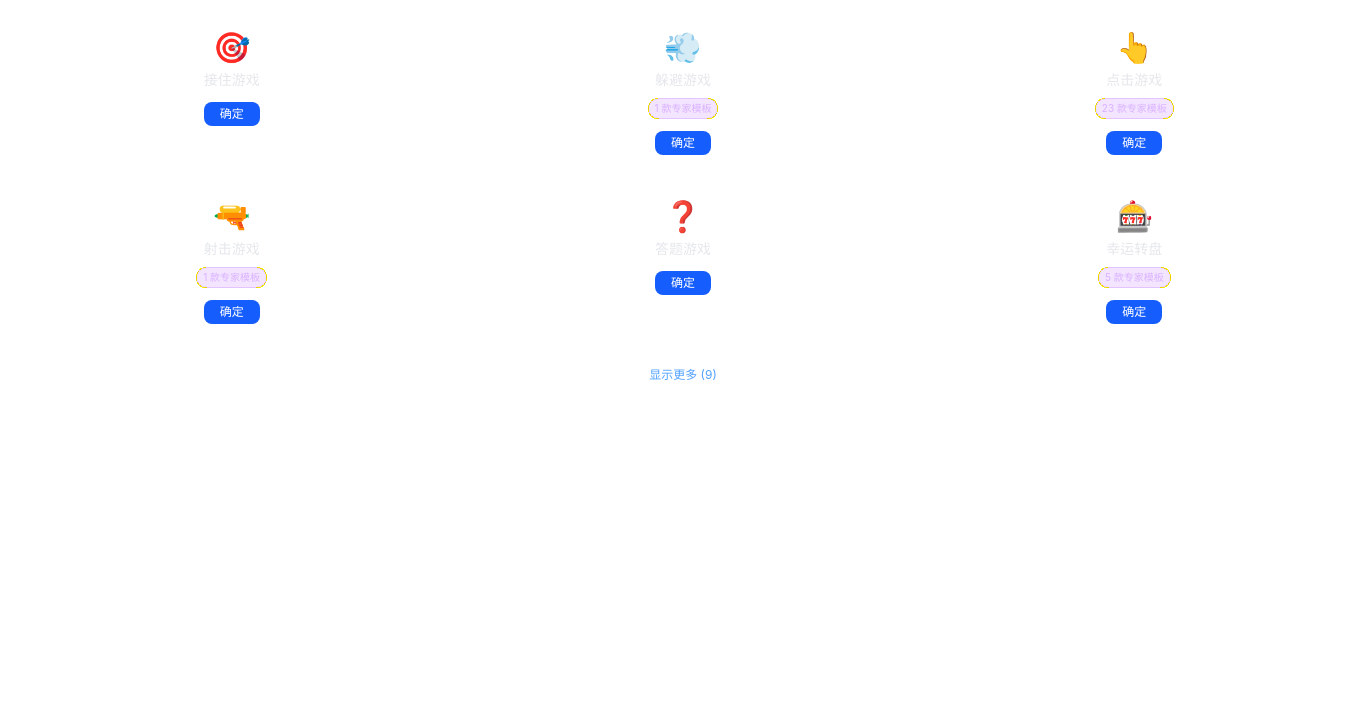
Scenario: GameTypeSelector › renders at least the 15 known game types after expanding
Note: Progressive disclosure: expand first
Click the button "显示更多 (9)". click: click(683, 375)
box: [12, 361, 1354, 389]
(page scrolled)
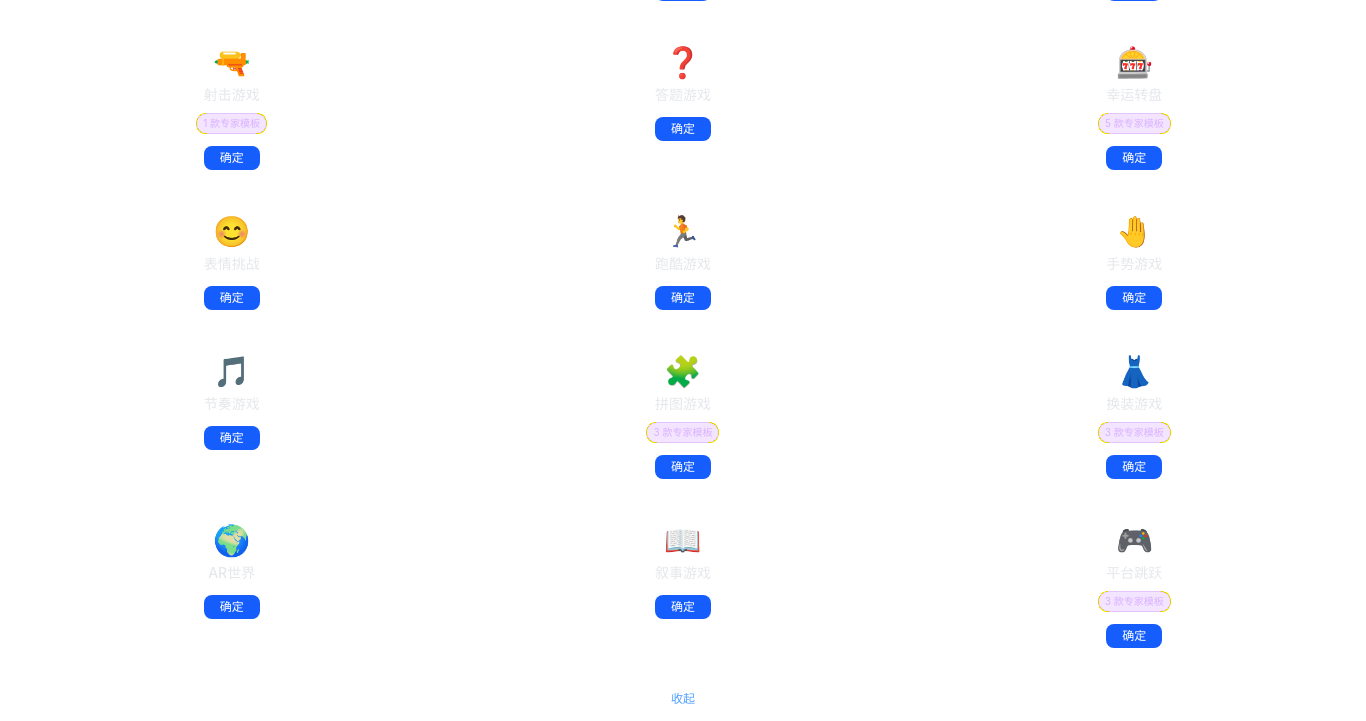
Check: the text "表情挑战" is shown, box [204, 254, 260, 274]
Check: the text "跑酷游戏" is shown, box [655, 254, 711, 274]
Check: the text "手势游戏" is shown, box [1106, 254, 1162, 274]
